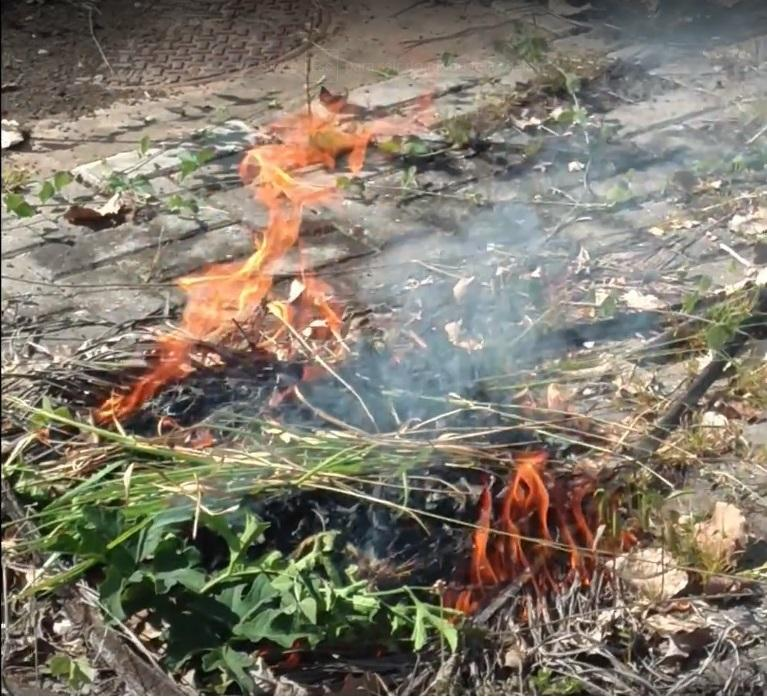fire: (478, 477, 582, 583), (183, 277, 262, 345)
